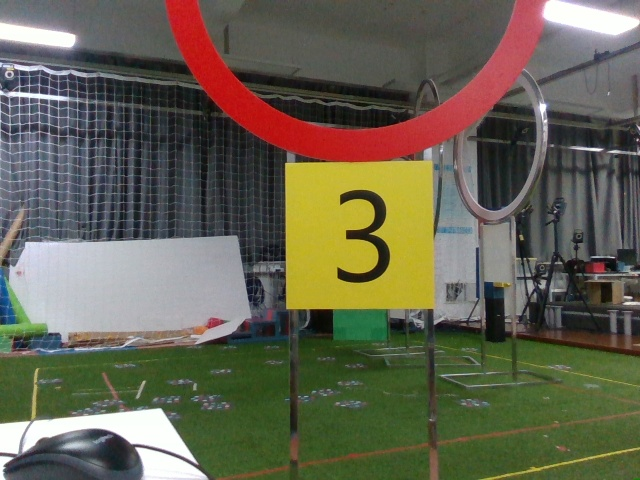target: (279, 163, 433, 310)
